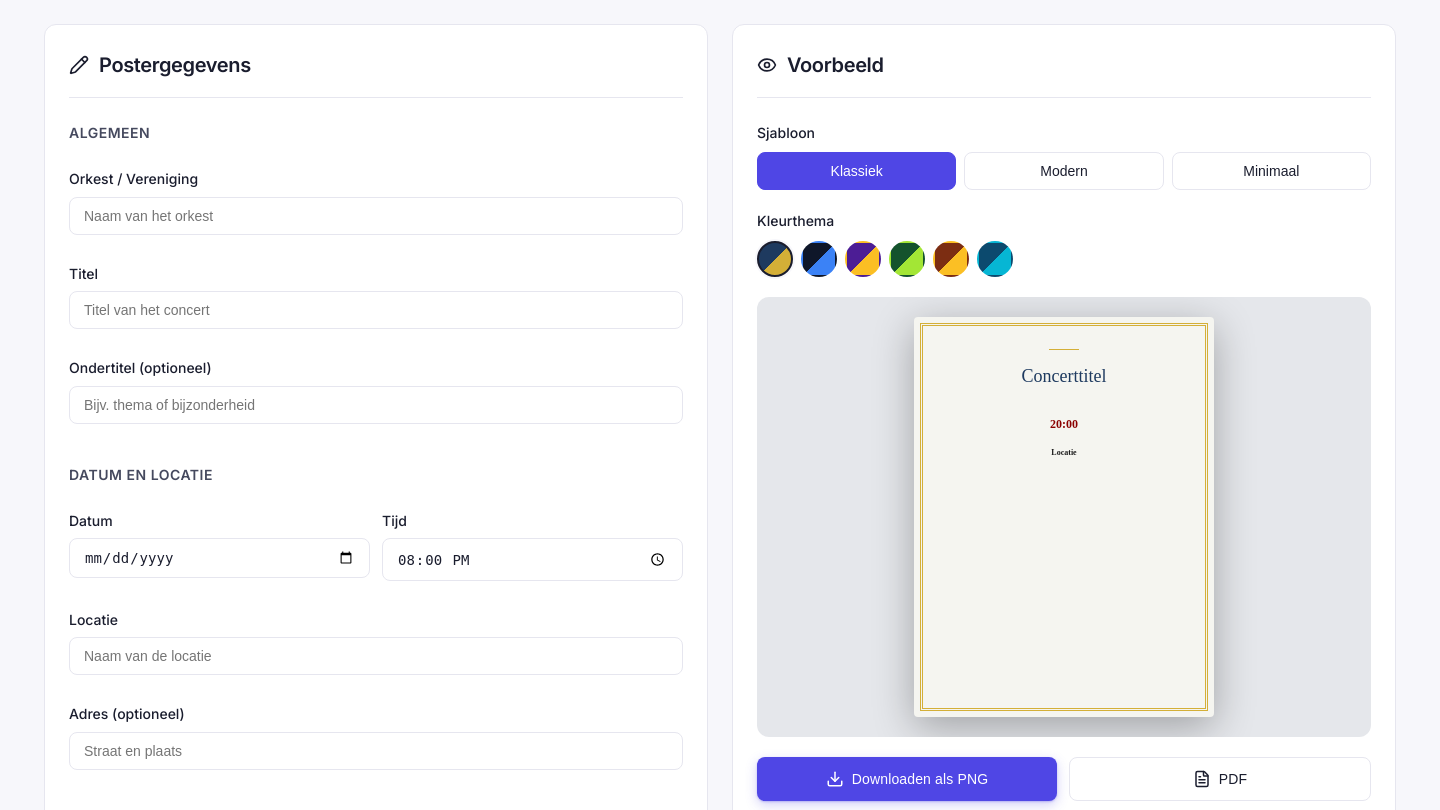
de velden en het voorbeeld › zet naam, titel en ondertitel meteen op de poster
Type "Concordia" into the field labelled "Orkest / Vereniging" at [376, 216], box 69,197 -> 683,235
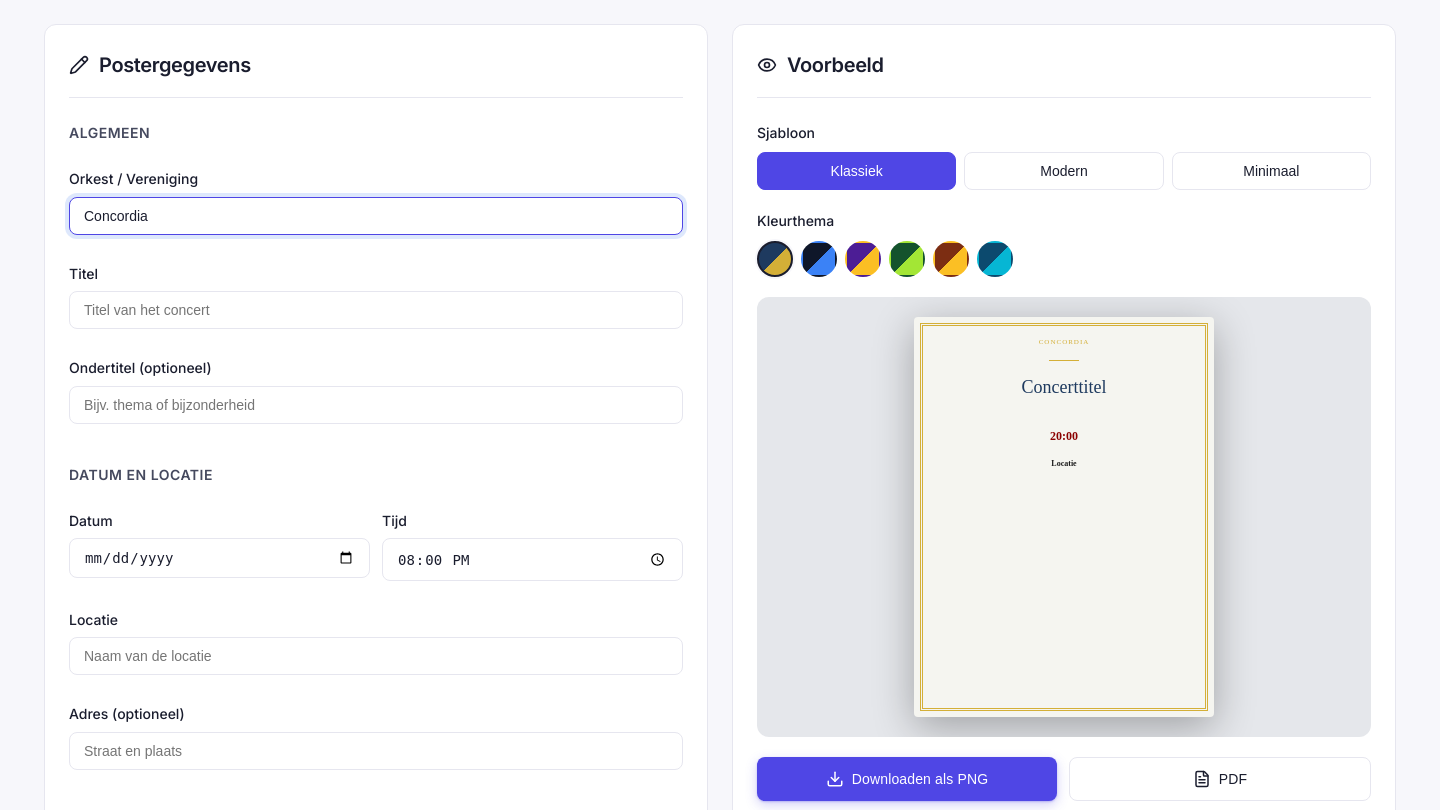
Type "Nieuwjaar" into the field labelled "Titel" at [376, 310], box 69,291 -> 683,329
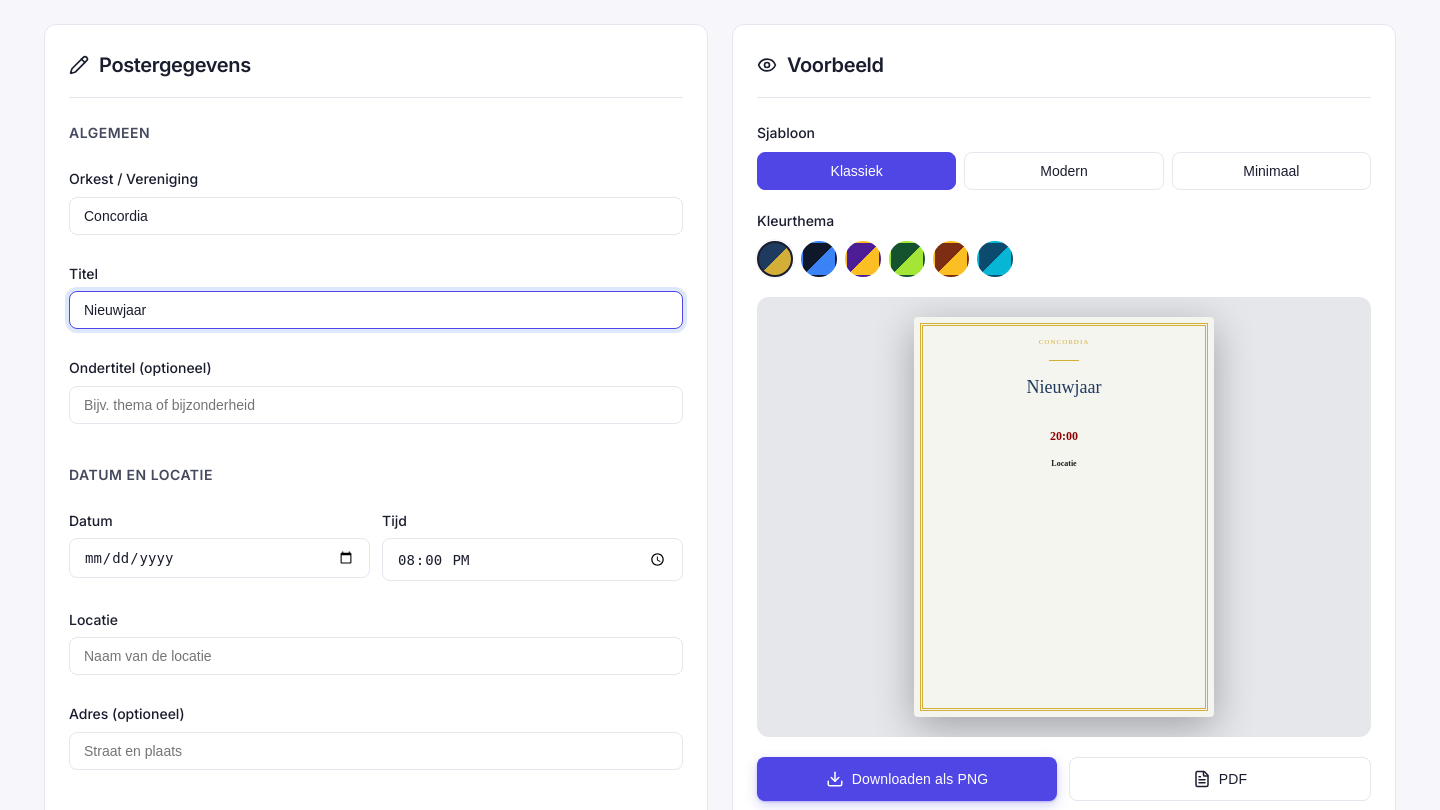
Type "met koor" into the field labelled "Ondertitel (optioneel)" at [376, 405], box 69,386 -> 683,424
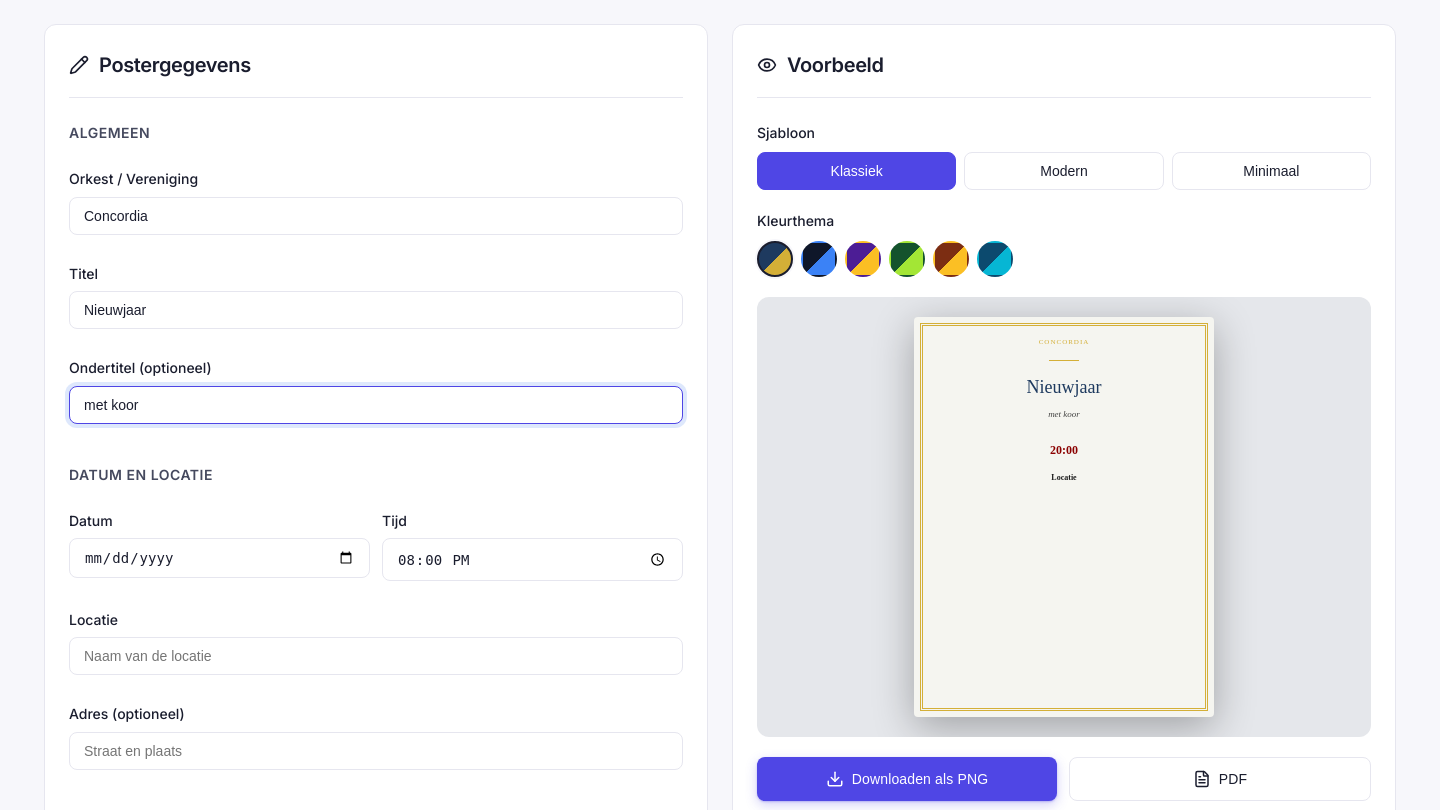
Now the text "Concordia" is shown, box 1039,338 -> 1089,346
Now the heading "Nieuwjaar" is shown, box 1026,377 -> 1102,397
Now the text "met koor" is shown, box 1048,409 -> 1080,419
